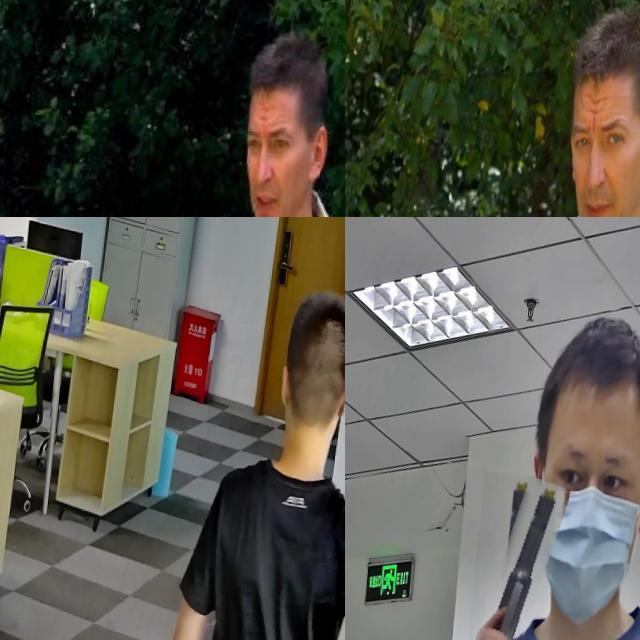gun-knife-thesis - v11 Yolov5 augmented: (469, 466, 564, 640)
